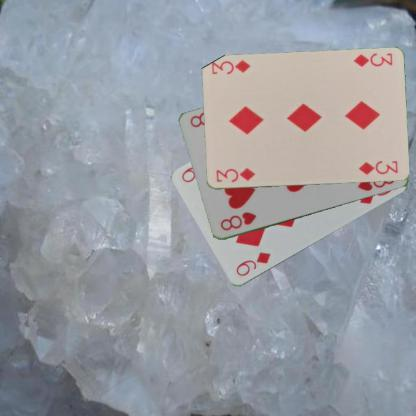3d: (350, 50, 394, 69), (213, 165, 256, 184)
8h: (218, 210, 258, 232)
9d: (233, 250, 272, 278)
